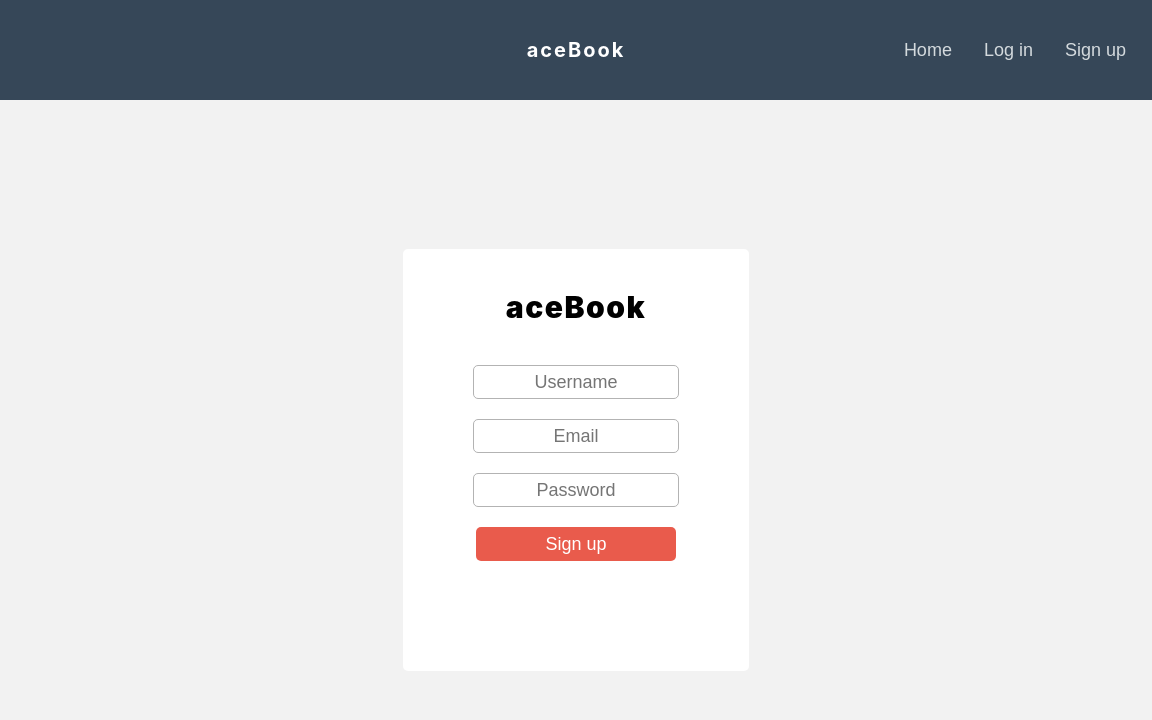
Signup Page › displays error message when signup is not successfull
Type "test user" into the field with placeholder "Username". click: (576, 382)
box: 473,365 -> 679,399
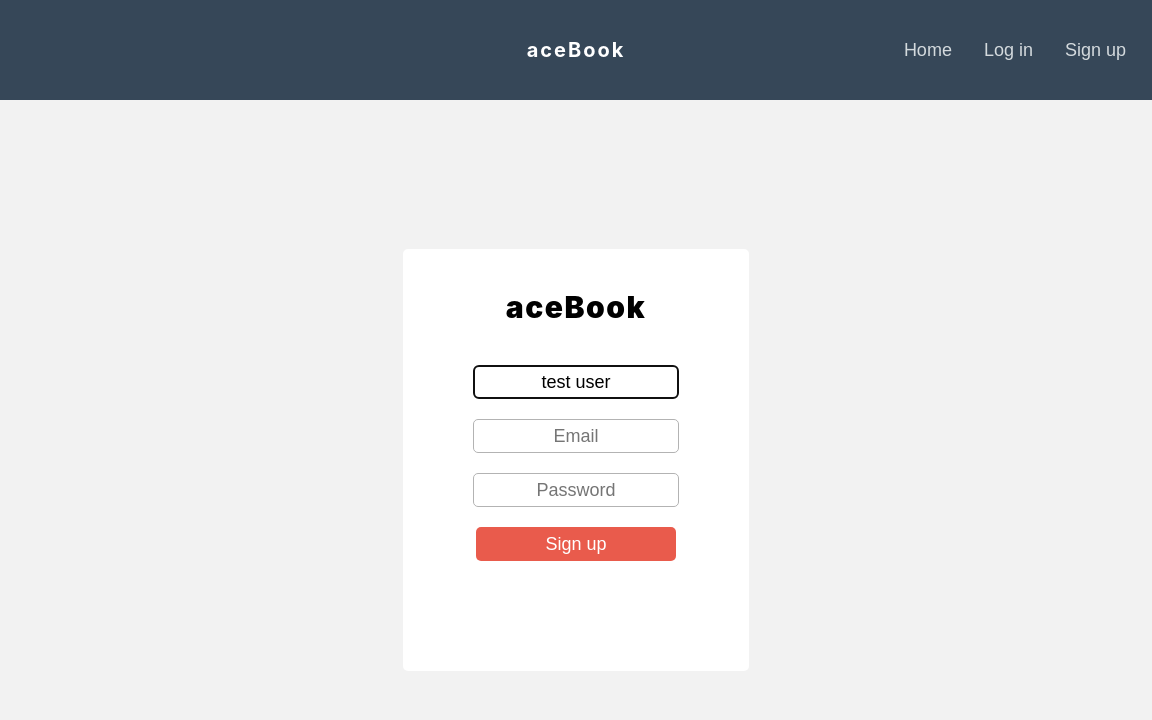
Type "test@email.com" into the field with placeholder "Email". click: (576, 436)
box: 473,419 -> 679,453
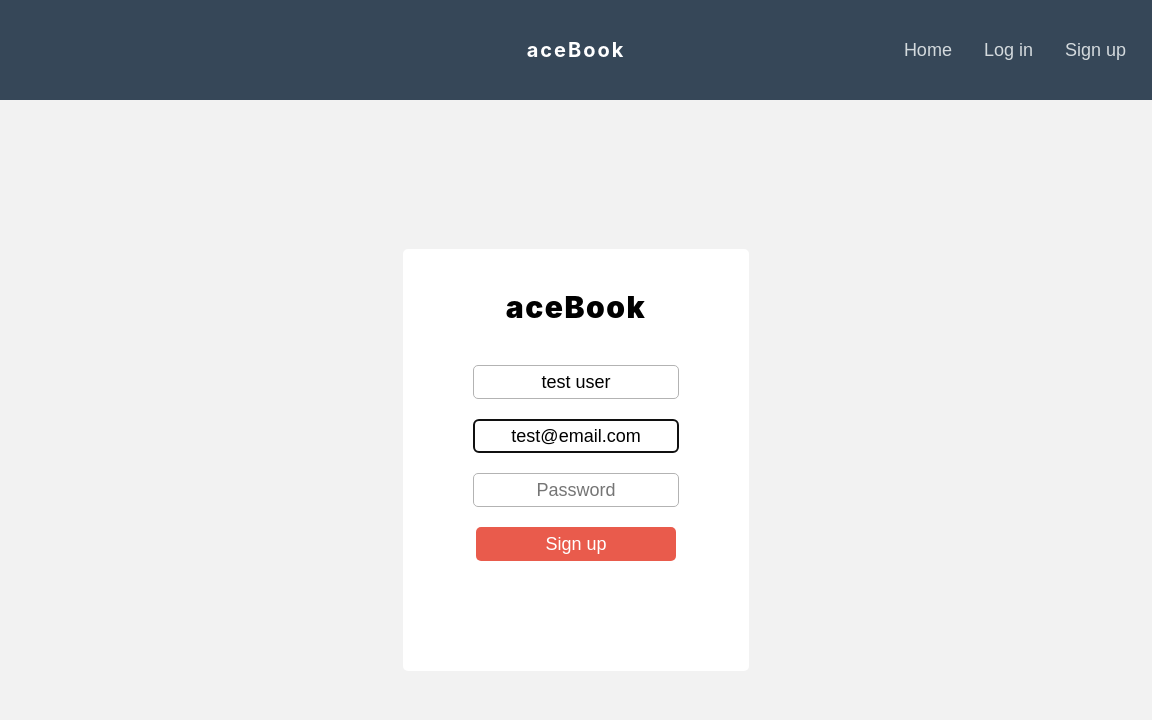
Type "cHeck123Test!" into the password field with placeholder "Password". click: (576, 490)
box: 473,473 -> 679,507
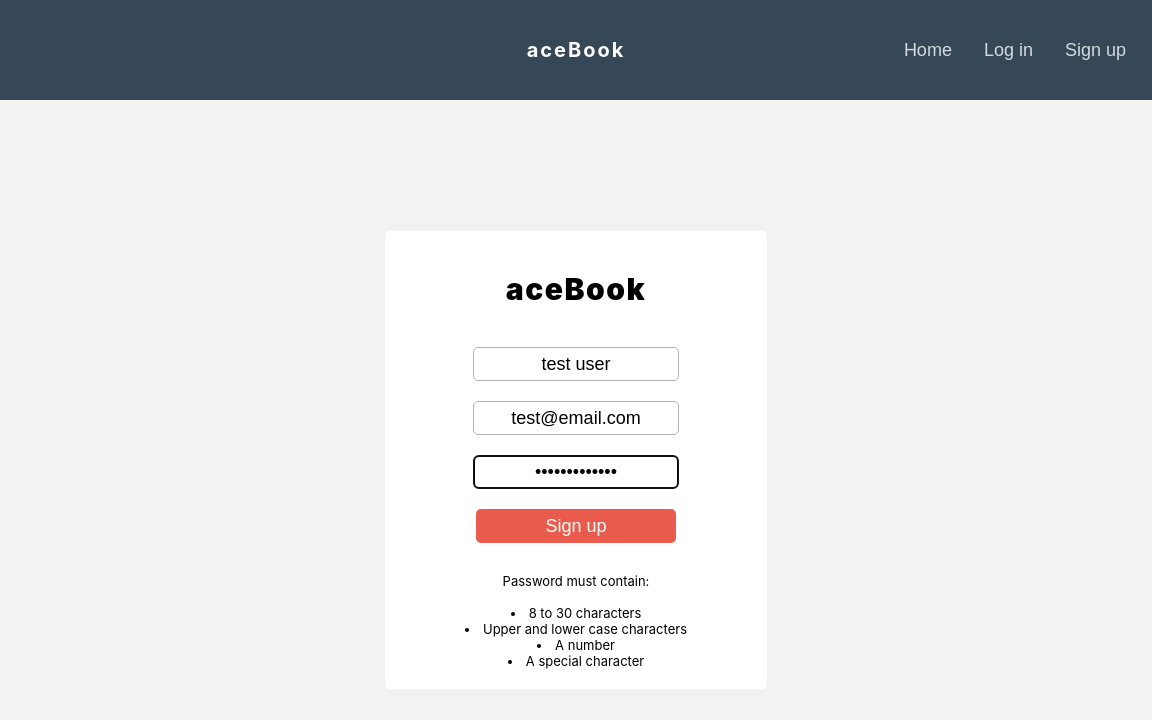
Click the 2nd button "Sign up". click: (576, 526)
box: 476,509 -> 676,543
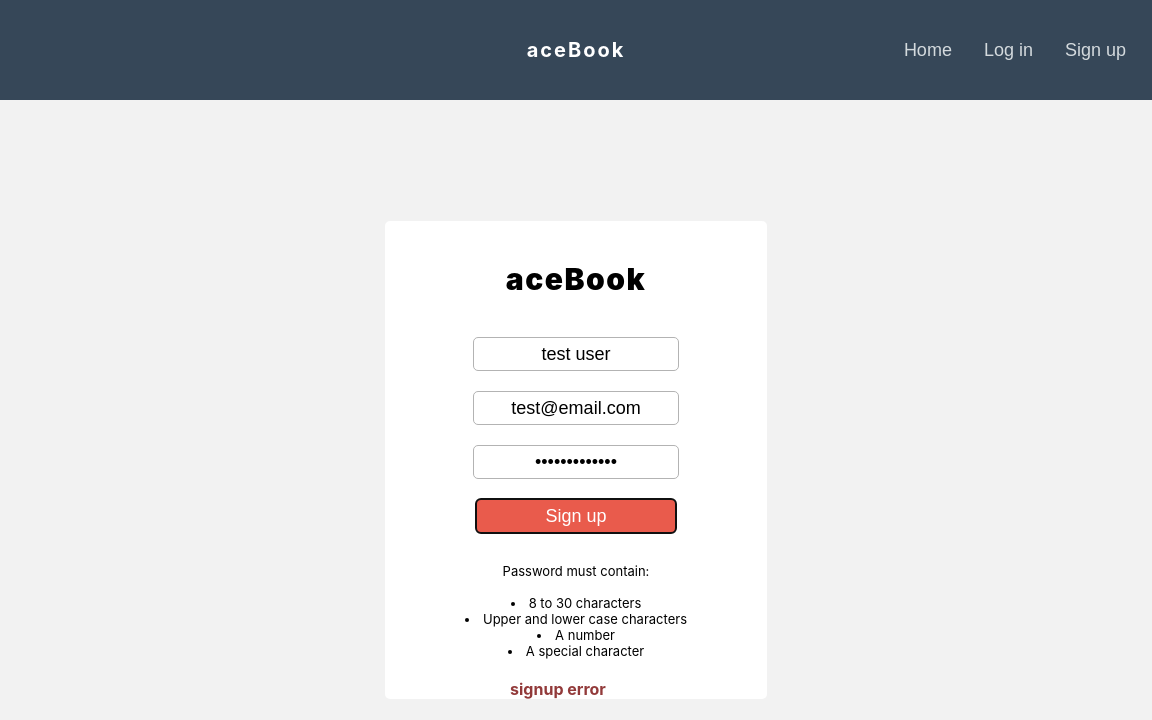
Check: the text "signup error" is shown, box 510,679 -> 606,699
